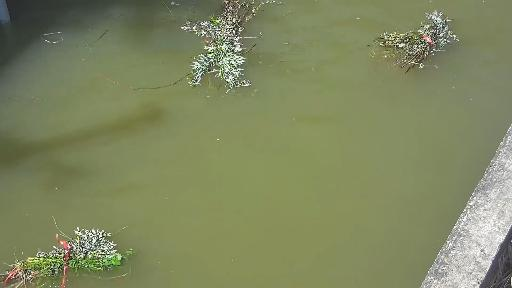twig: (149, 0, 277, 92), (6, 213, 136, 281), (363, 24, 471, 72)
